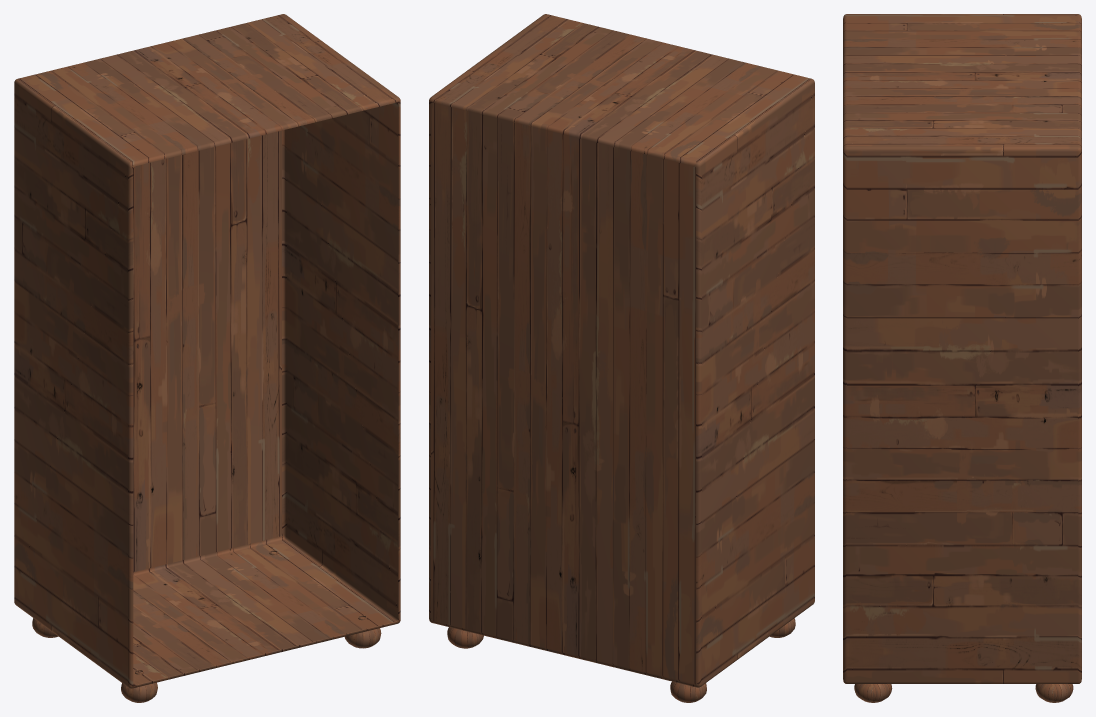
The model's file is ropero.fbx.
3 views of the same model, side by side, from view 1: azimuth 30°, elevation 25°; view 2: azimuth 150°, elevation 25°; view 3: azimuth 270°, elevation 25° (orthographic). The views are drawn at different scales.
Parts seen in each view (by area): view 1: gabinete 003; view 2: gabinete 003; view 3: gabinete 003.
Part boxes in pixels (x1,y1,x2,y2): gabinete 003: (14, 14, 400, 702); gabinete 003: (429, 14, 814, 702); gabinete 003: (843, 14, 1081, 702).
Size of the model in its own units: 329 by 640 by 245.
1 material, 1 textured.
